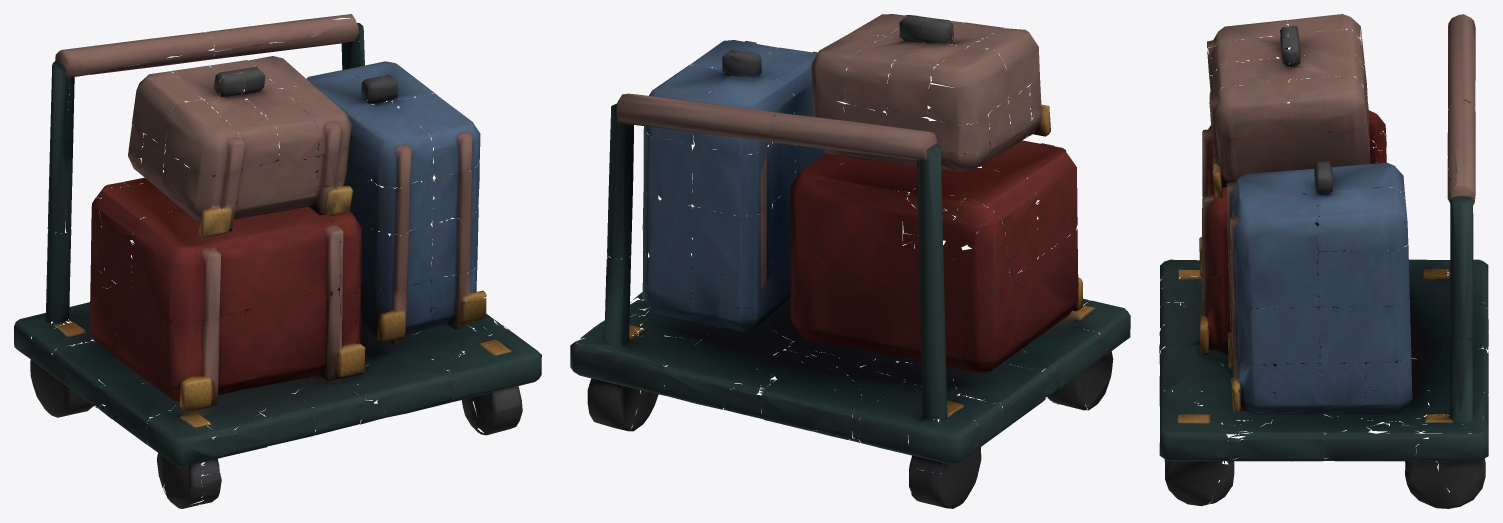
The model's file is model-CQ1T1UTj.glb.
3 renders of one model, left to right at view 1: azimuth 30°, elevation 25°; view 2: azimuth 150°, elevation 25°; view 3: azimuth 270°, elevation 25°, orthographic. The views are drawn at different scales.
Parts seen in each view (by area): view 1: world; view 2: world; view 3: world.
Part boxes in pixels (box(x1,y1,x2,y2)): world: box(14, 14, 541, 508); world: box(570, 14, 1130, 508); world: box(1159, 14, 1488, 508).
Size of the model in its own units: 1.6 by 1.56 by 1.26.
Materials: 1 (1 with a texture image).
